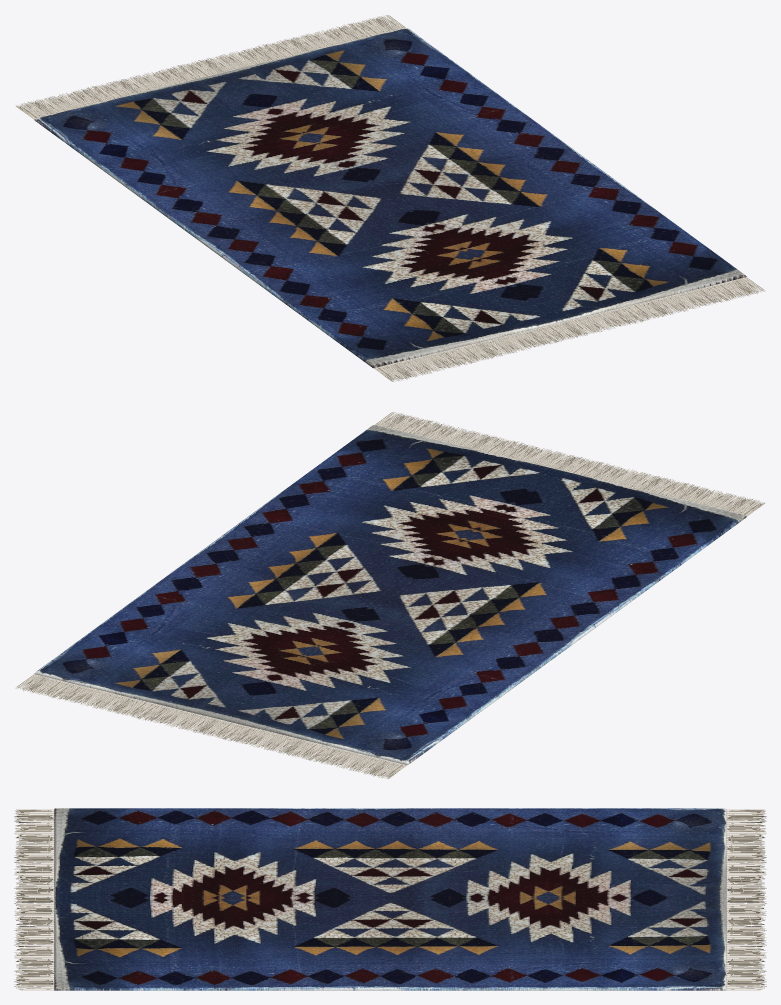
3 renders of one model, top to bottom at view 1: azimuth 30°, elevation 25°; view 2: azimuth 150°, elevation 25°; view 3: azimuth 270°, elevation 25°, orthographic.
Visible parts, largest first — view 1: k08; view 2: k08; view 3: k08.
Boxes of the visible parts, x1,y1,x2,y2 form: k08: [16, 15, 765, 381]; k08: [15, 412, 764, 778]; k08: [14, 808, 766, 990].
Bounding box in the file's own units: 0.7 × 0.0045 × 1.23.
Materials: 3 (2 with a texture image).
